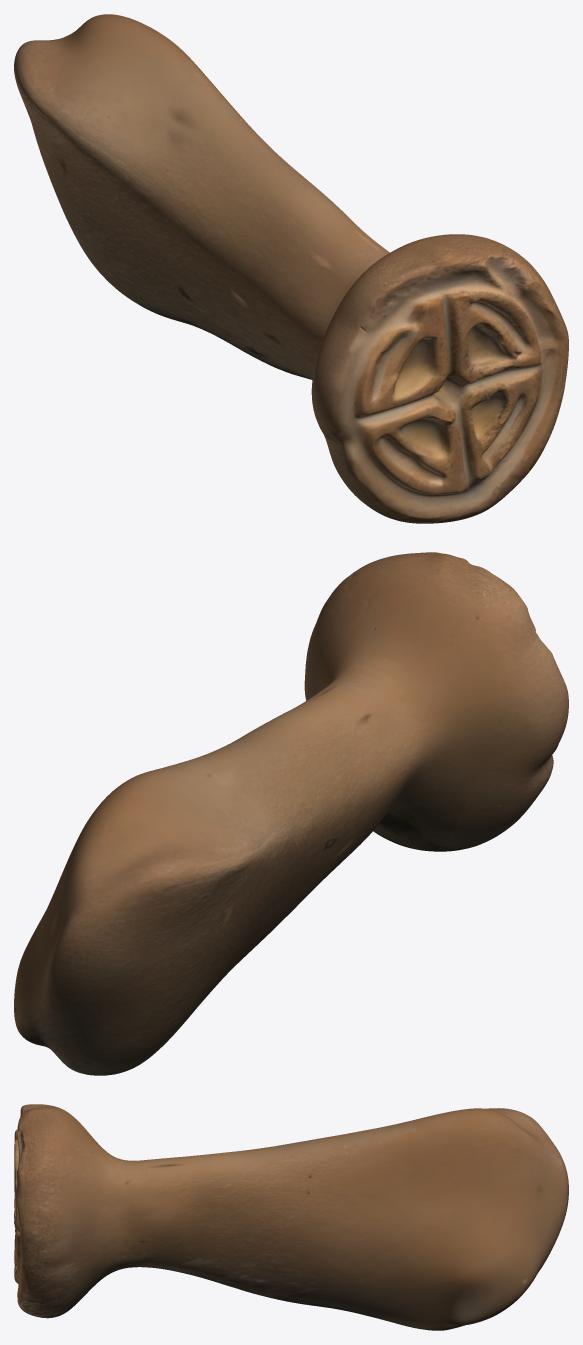
Rendered from 025-reznaya-pechat-so-znakom.glb.
The picture shows the model from 3 angles, top to bottom: view 1: azimuth 30°, elevation 25°; view 2: azimuth 150°, elevation 25°; view 3: azimuth 270°, elevation 25°; orthographic projection. The views are drawn at different scales.
Parts seen in each view (by area): view 1: node_0; view 2: node_0; view 3: node_0.
Boxes of the visible parts, bbox=[...] form: node_0: bbox=[14, 14, 568, 523]; node_0: bbox=[14, 552, 568, 1075]; node_0: bbox=[14, 1104, 568, 1330].
Size of the model in its own units: 0.4074 by 0.4603 by 1.14.
Materials: 1 (1 with a texture image).
